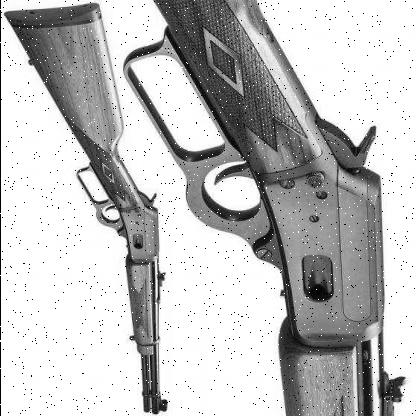rifle: (123, 0, 408, 415), (7, 11, 197, 413)
